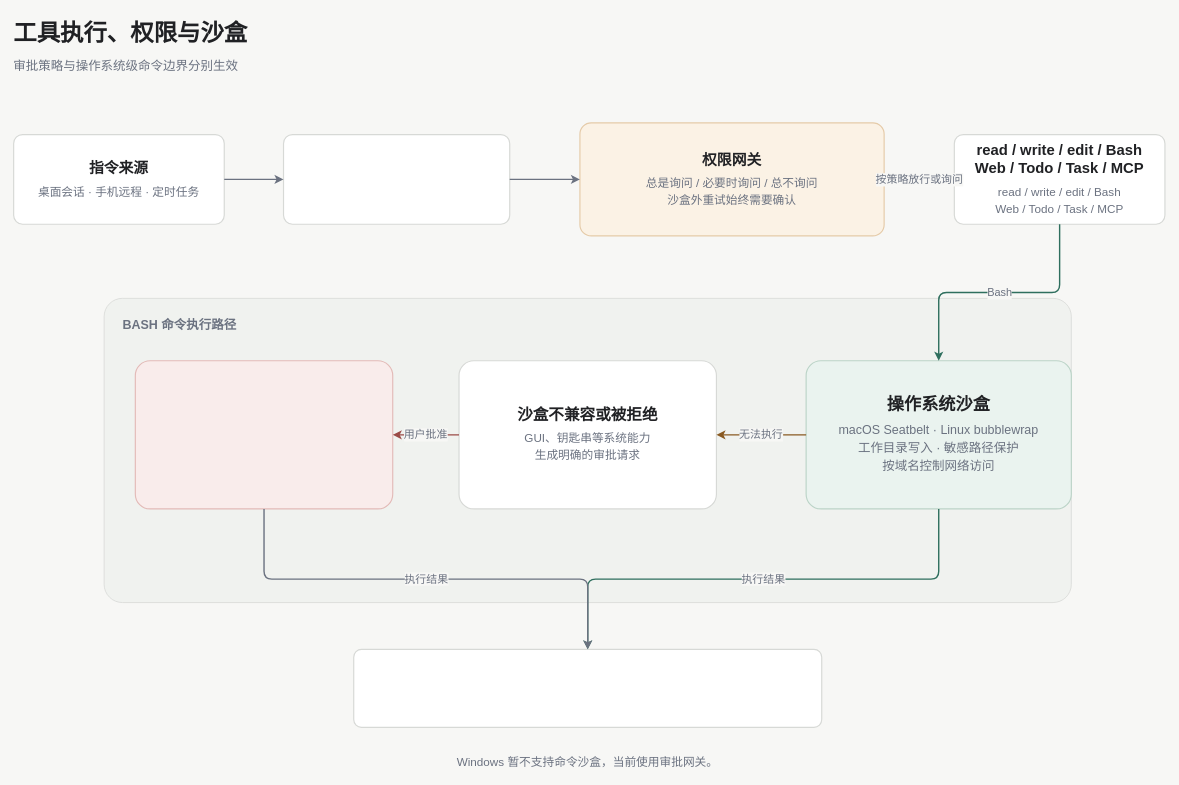
This 1179x785 diagram has some shape labels left out. The centre of each missing label's shape, as x and y in pixels:
"Host Events 流式输出 · 工具结果 · 权限状态 桌面与配对手机同步呈现" goes at point 587,688.
"SessionController 解析工具调用 关联会话与项目规则" goes at point 396,179.
"批准后沙盒外重试 每次均需明确确认 结果返回同一会话事件流" goes at point 263,434.
